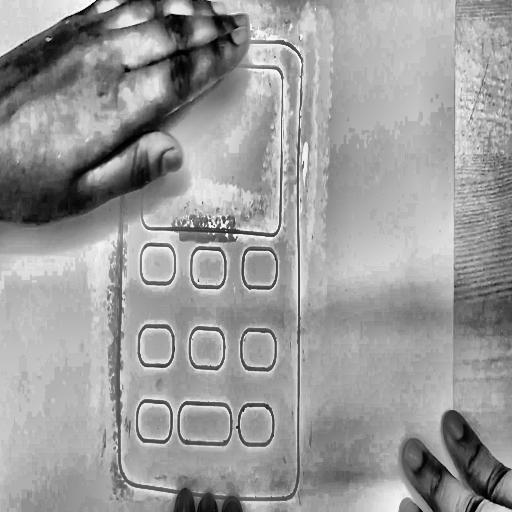mobile: (113, 1, 308, 507)
